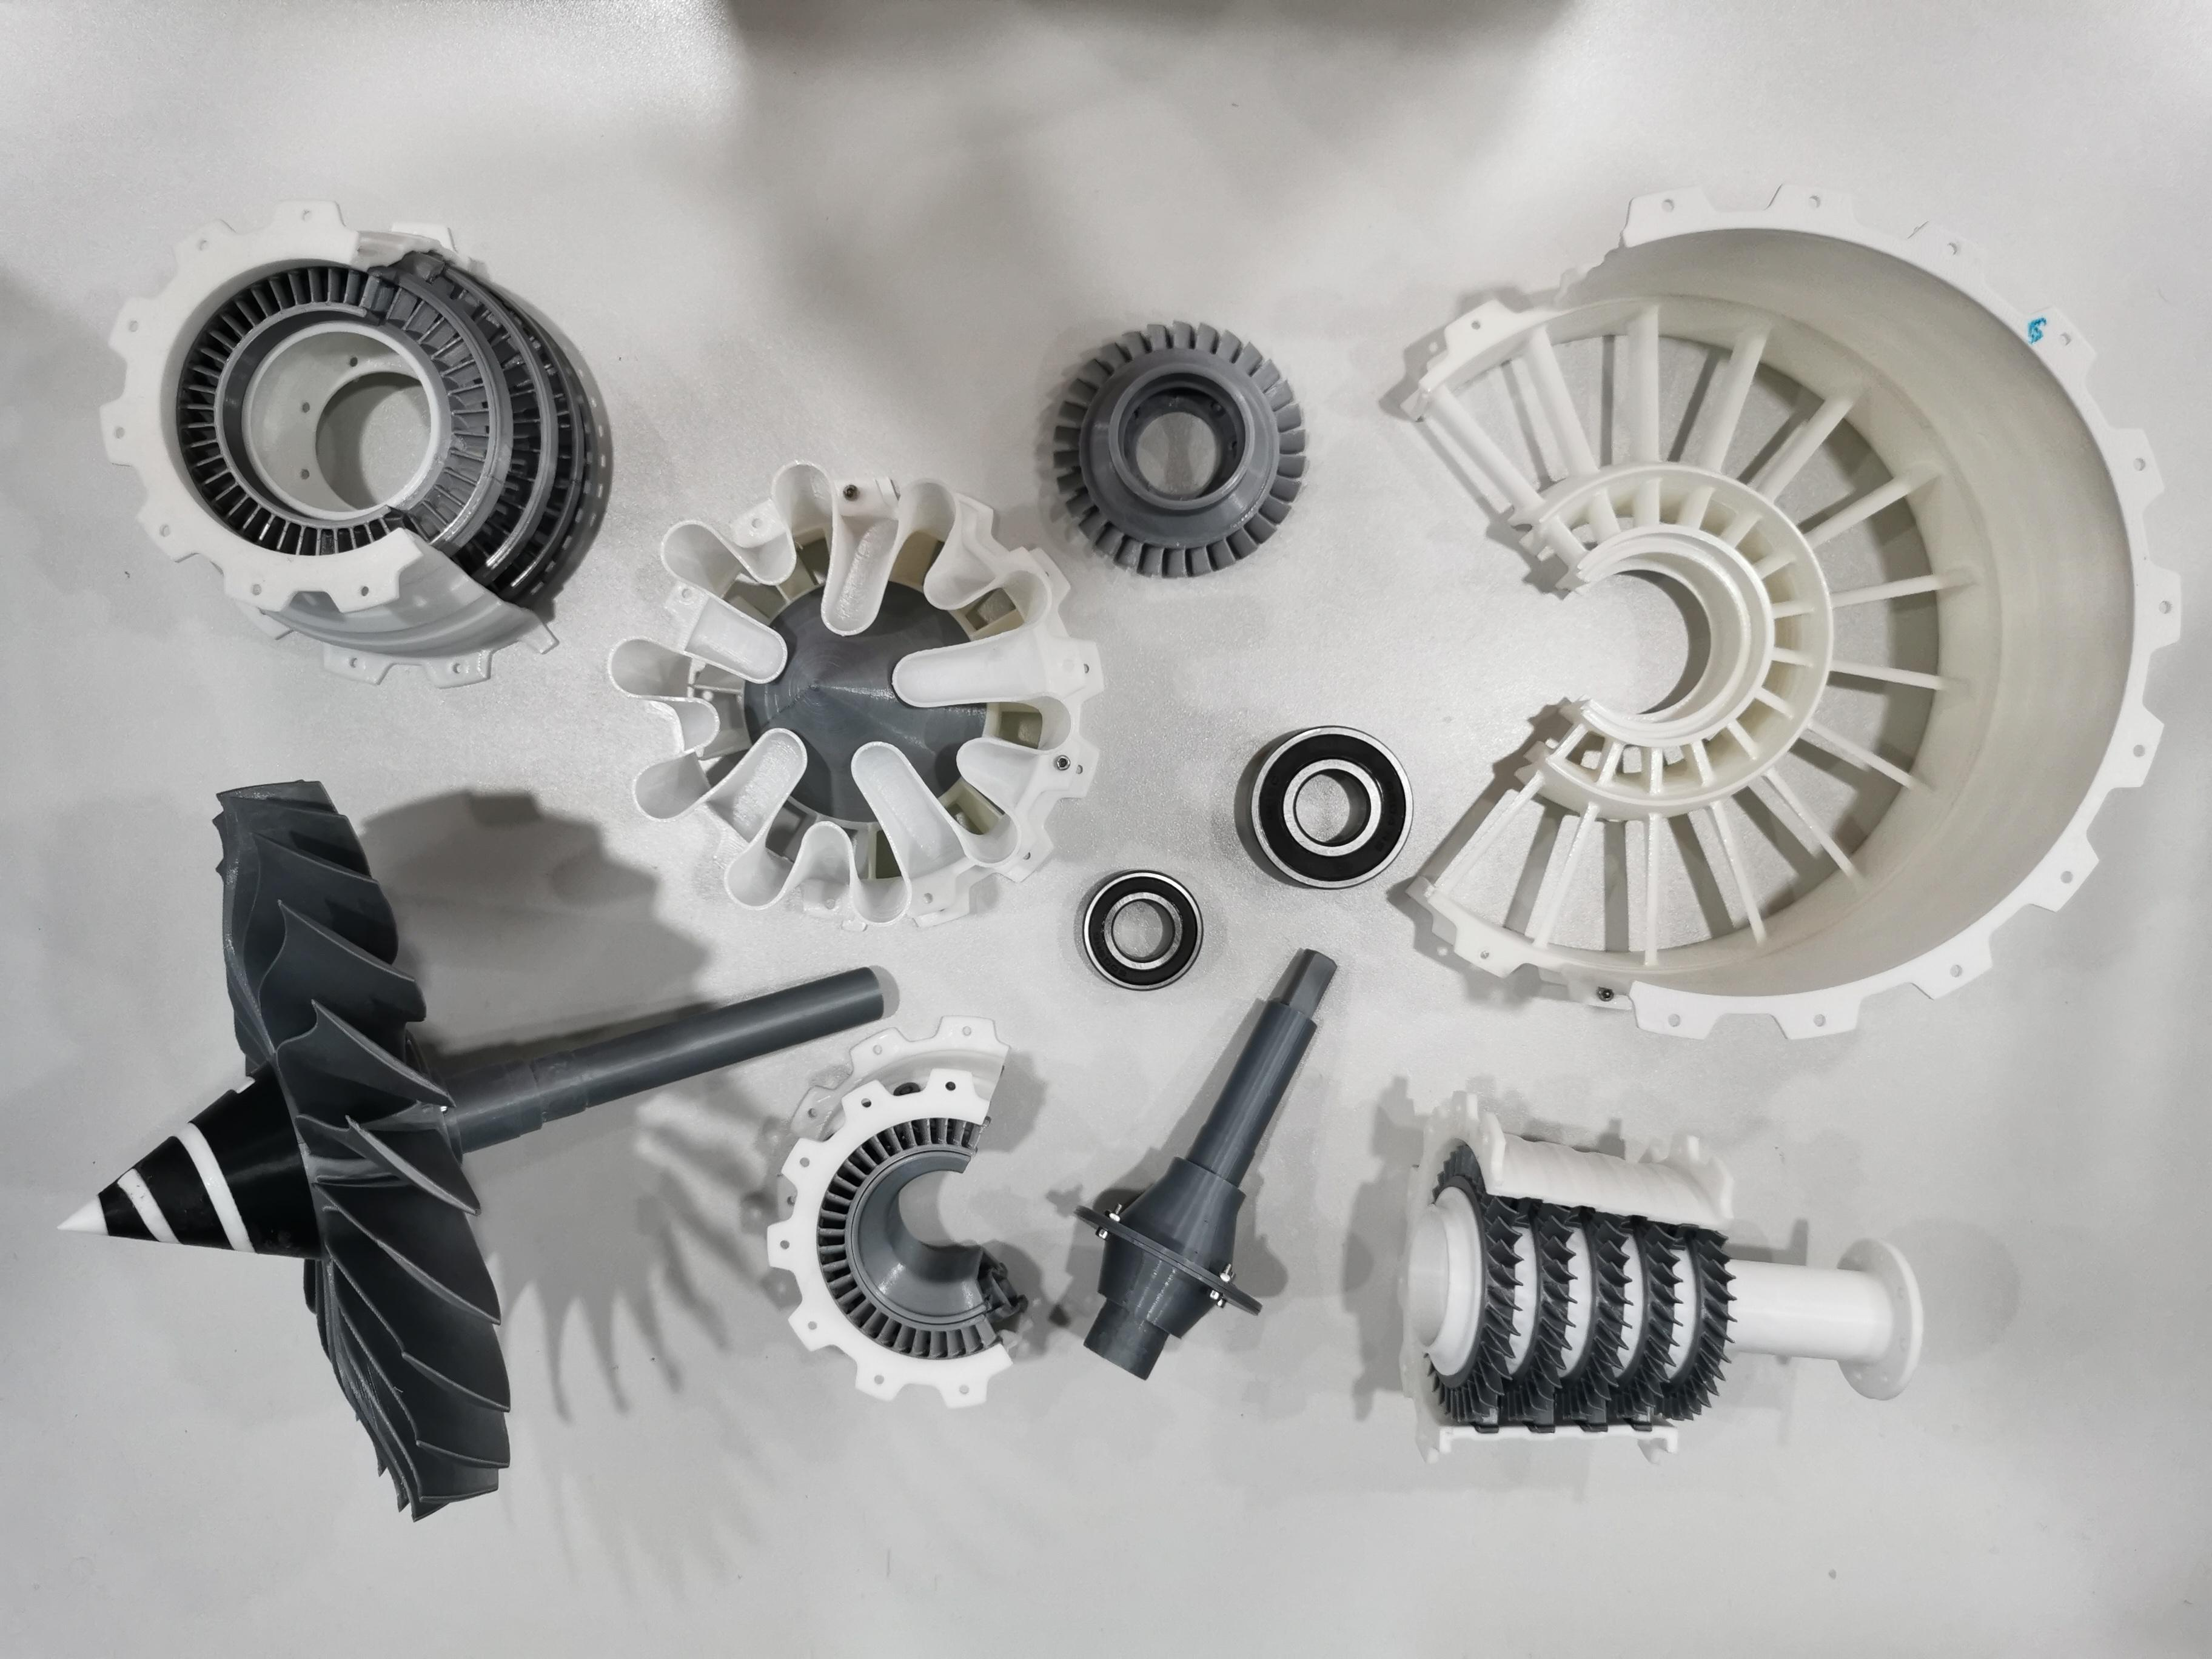Bearing-6003: (1068, 859, 1211, 999)
Bearing-6204: (1235, 713, 1414, 899)
Combustion Section: (752, 1006, 1040, 1420)
Fan Casing and Support: (1386, 169, 2189, 1051)
Fan and Low Pressure Shaft: (45, 774, 888, 1525)
HPT Section: (1029, 312, 1318, 589)
High Pressure Spool: (1381, 1086, 1973, 1478)
LPT Section: (94, 188, 617, 695)
Low Pressure Spool: (1061, 938, 1355, 1398)
Nozzle Section: (597, 457, 1106, 934)
